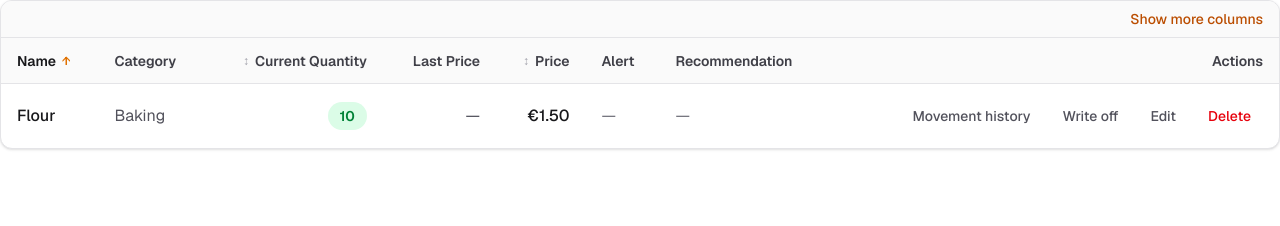
Scenario: InventoryTable compact/expanded columns › collapses back to compact columns after clicking 'Show fewer columns' again
Click the button "Show more columns": (1197, 19) [1130,9,1263,29]
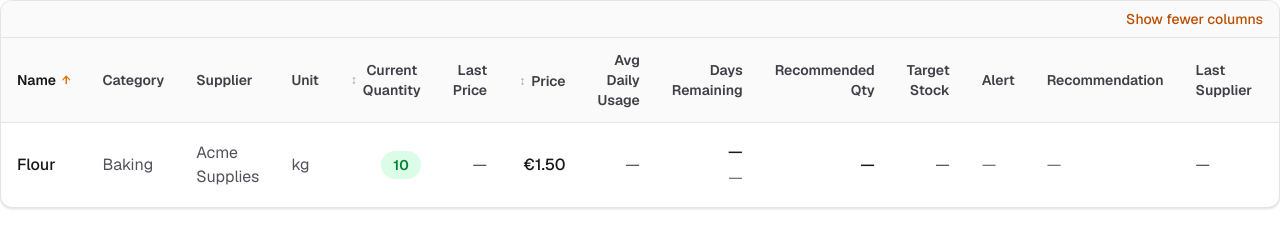
Click the button "Show fewer columns": (1195, 19) [1126,9,1263,29]
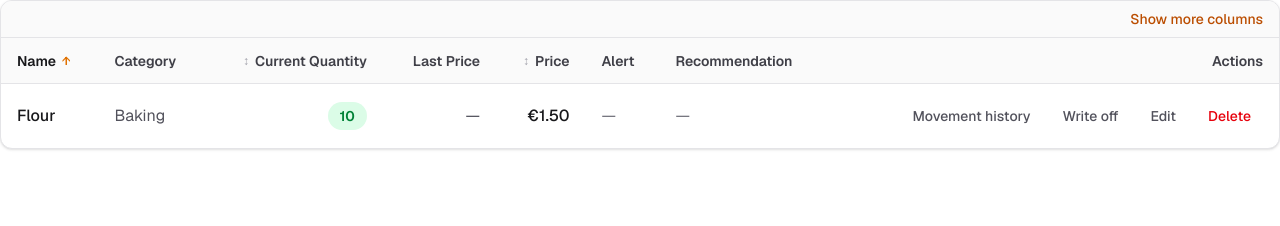
Check: the column heading "Supplier" is gone
Check: the button "Show more columns" is shown, box [1130,9,1263,29]
